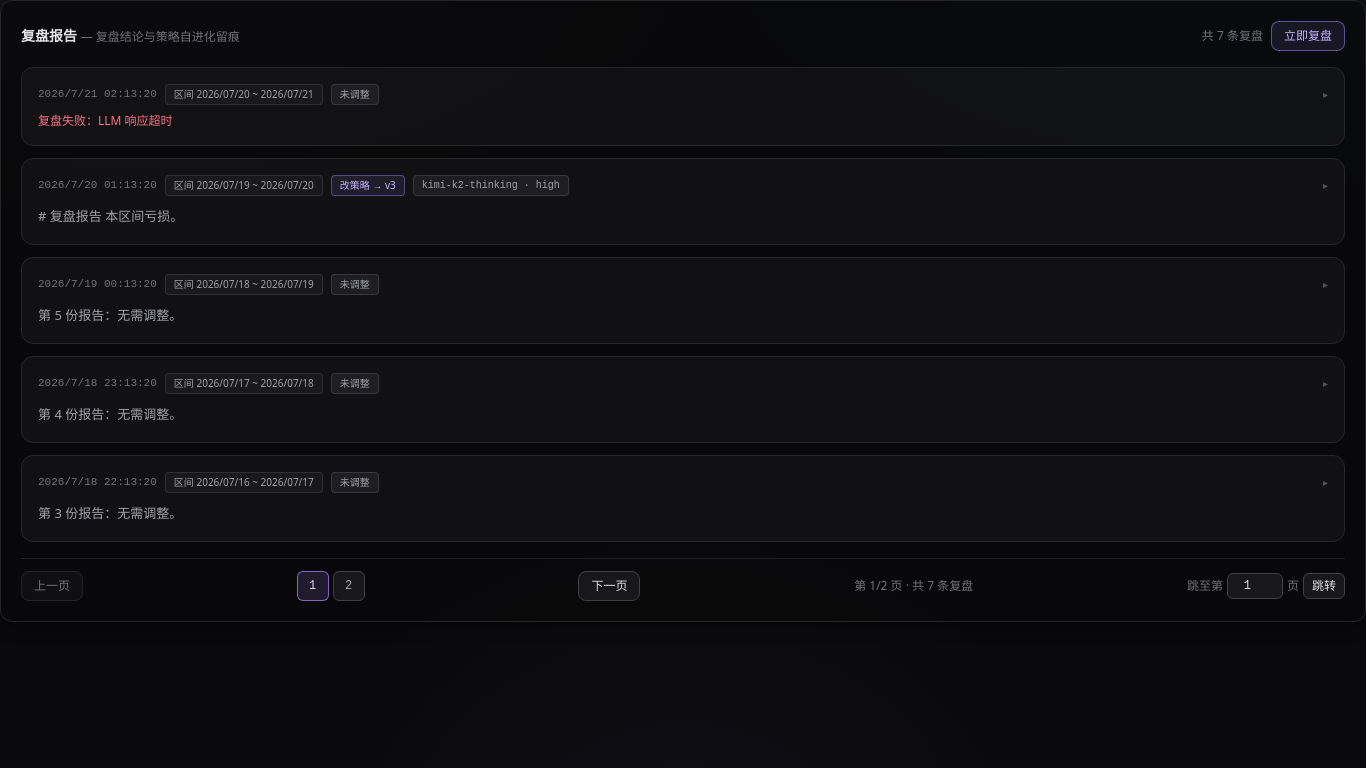
Test case: ReviewPanel(复盘报告) › 立即复盘 409（进行中）：按成功样式提示 ApiError.detail，不用错误红
Check: the text "第 5 份报告：无需调整。" is shown, box x1=38 y1=306 x2=182 y2=324
Click the button "立即复盘" at (1308, 36), box x1=1271 y1=21 x2=1345 y2=51
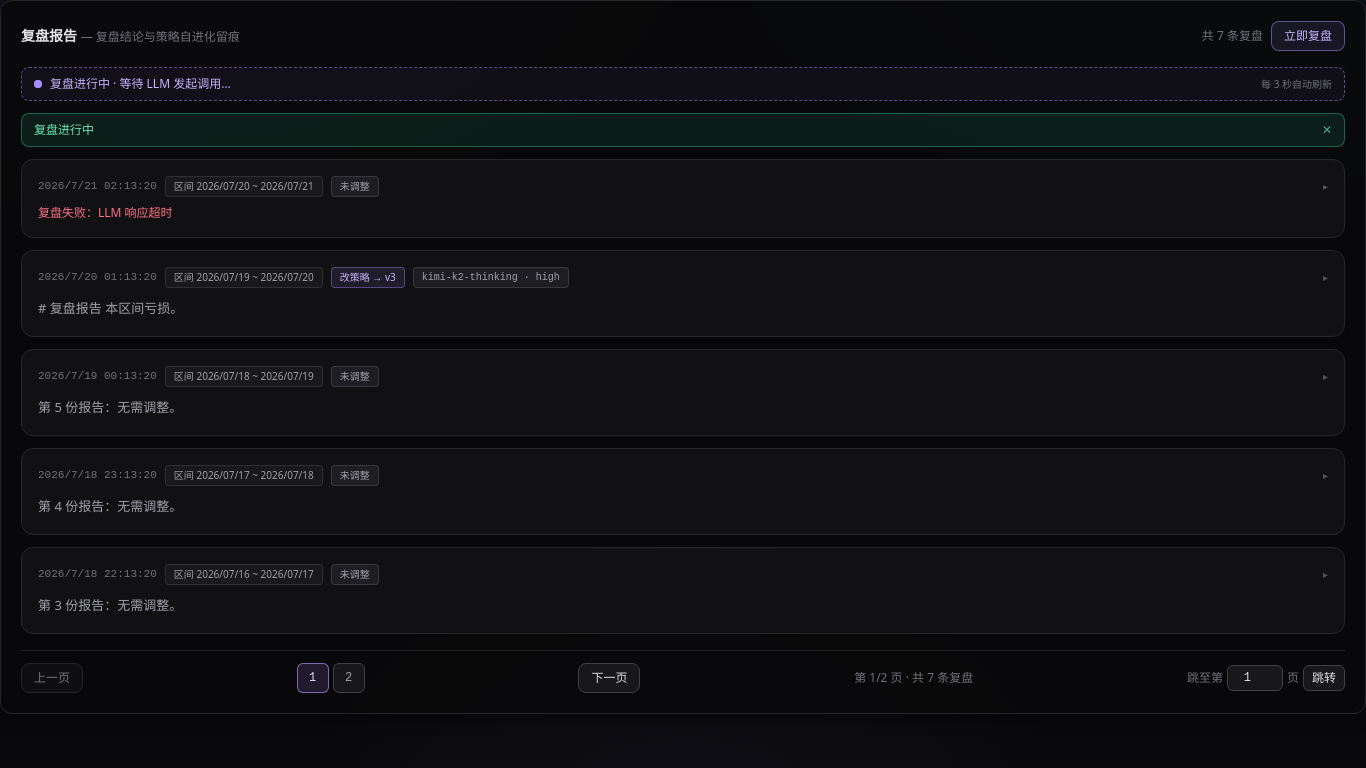
Check: the message shows "复盘进行中", box x1=34 y1=121 x2=94 y2=138
